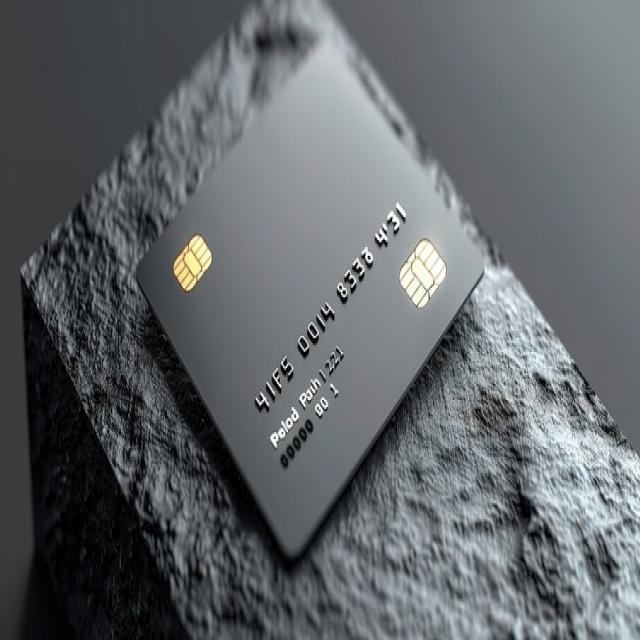payment_card: (132, 18, 486, 562)
